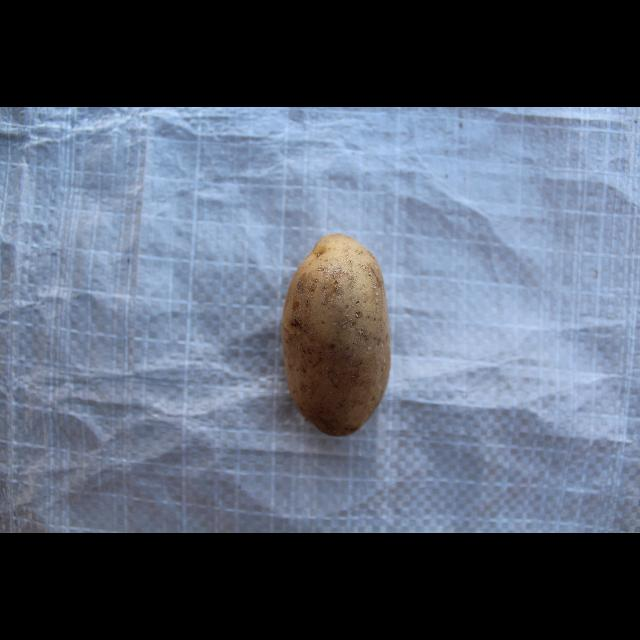Diseased-fungal potato: (276, 235, 392, 440)
